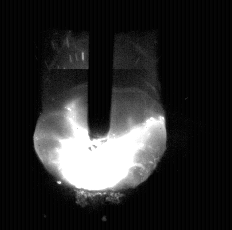arame: (88, 0, 112, 139)
poca: (32, 0, 168, 230)
